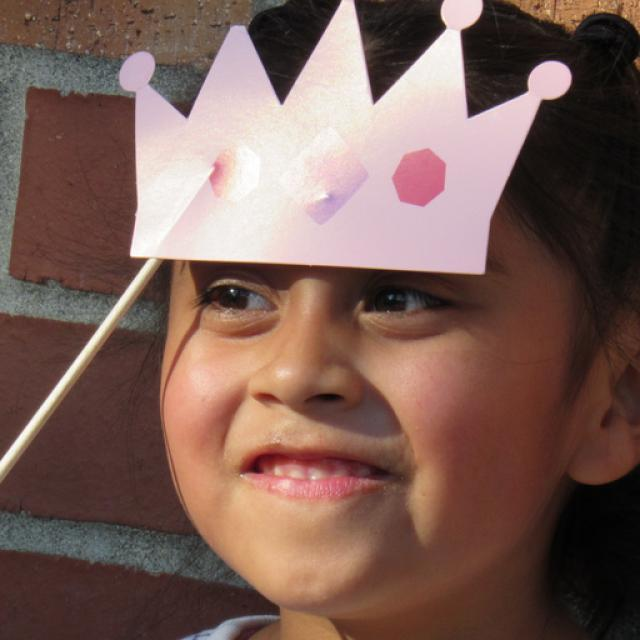disgust: (159, 265, 575, 615)
